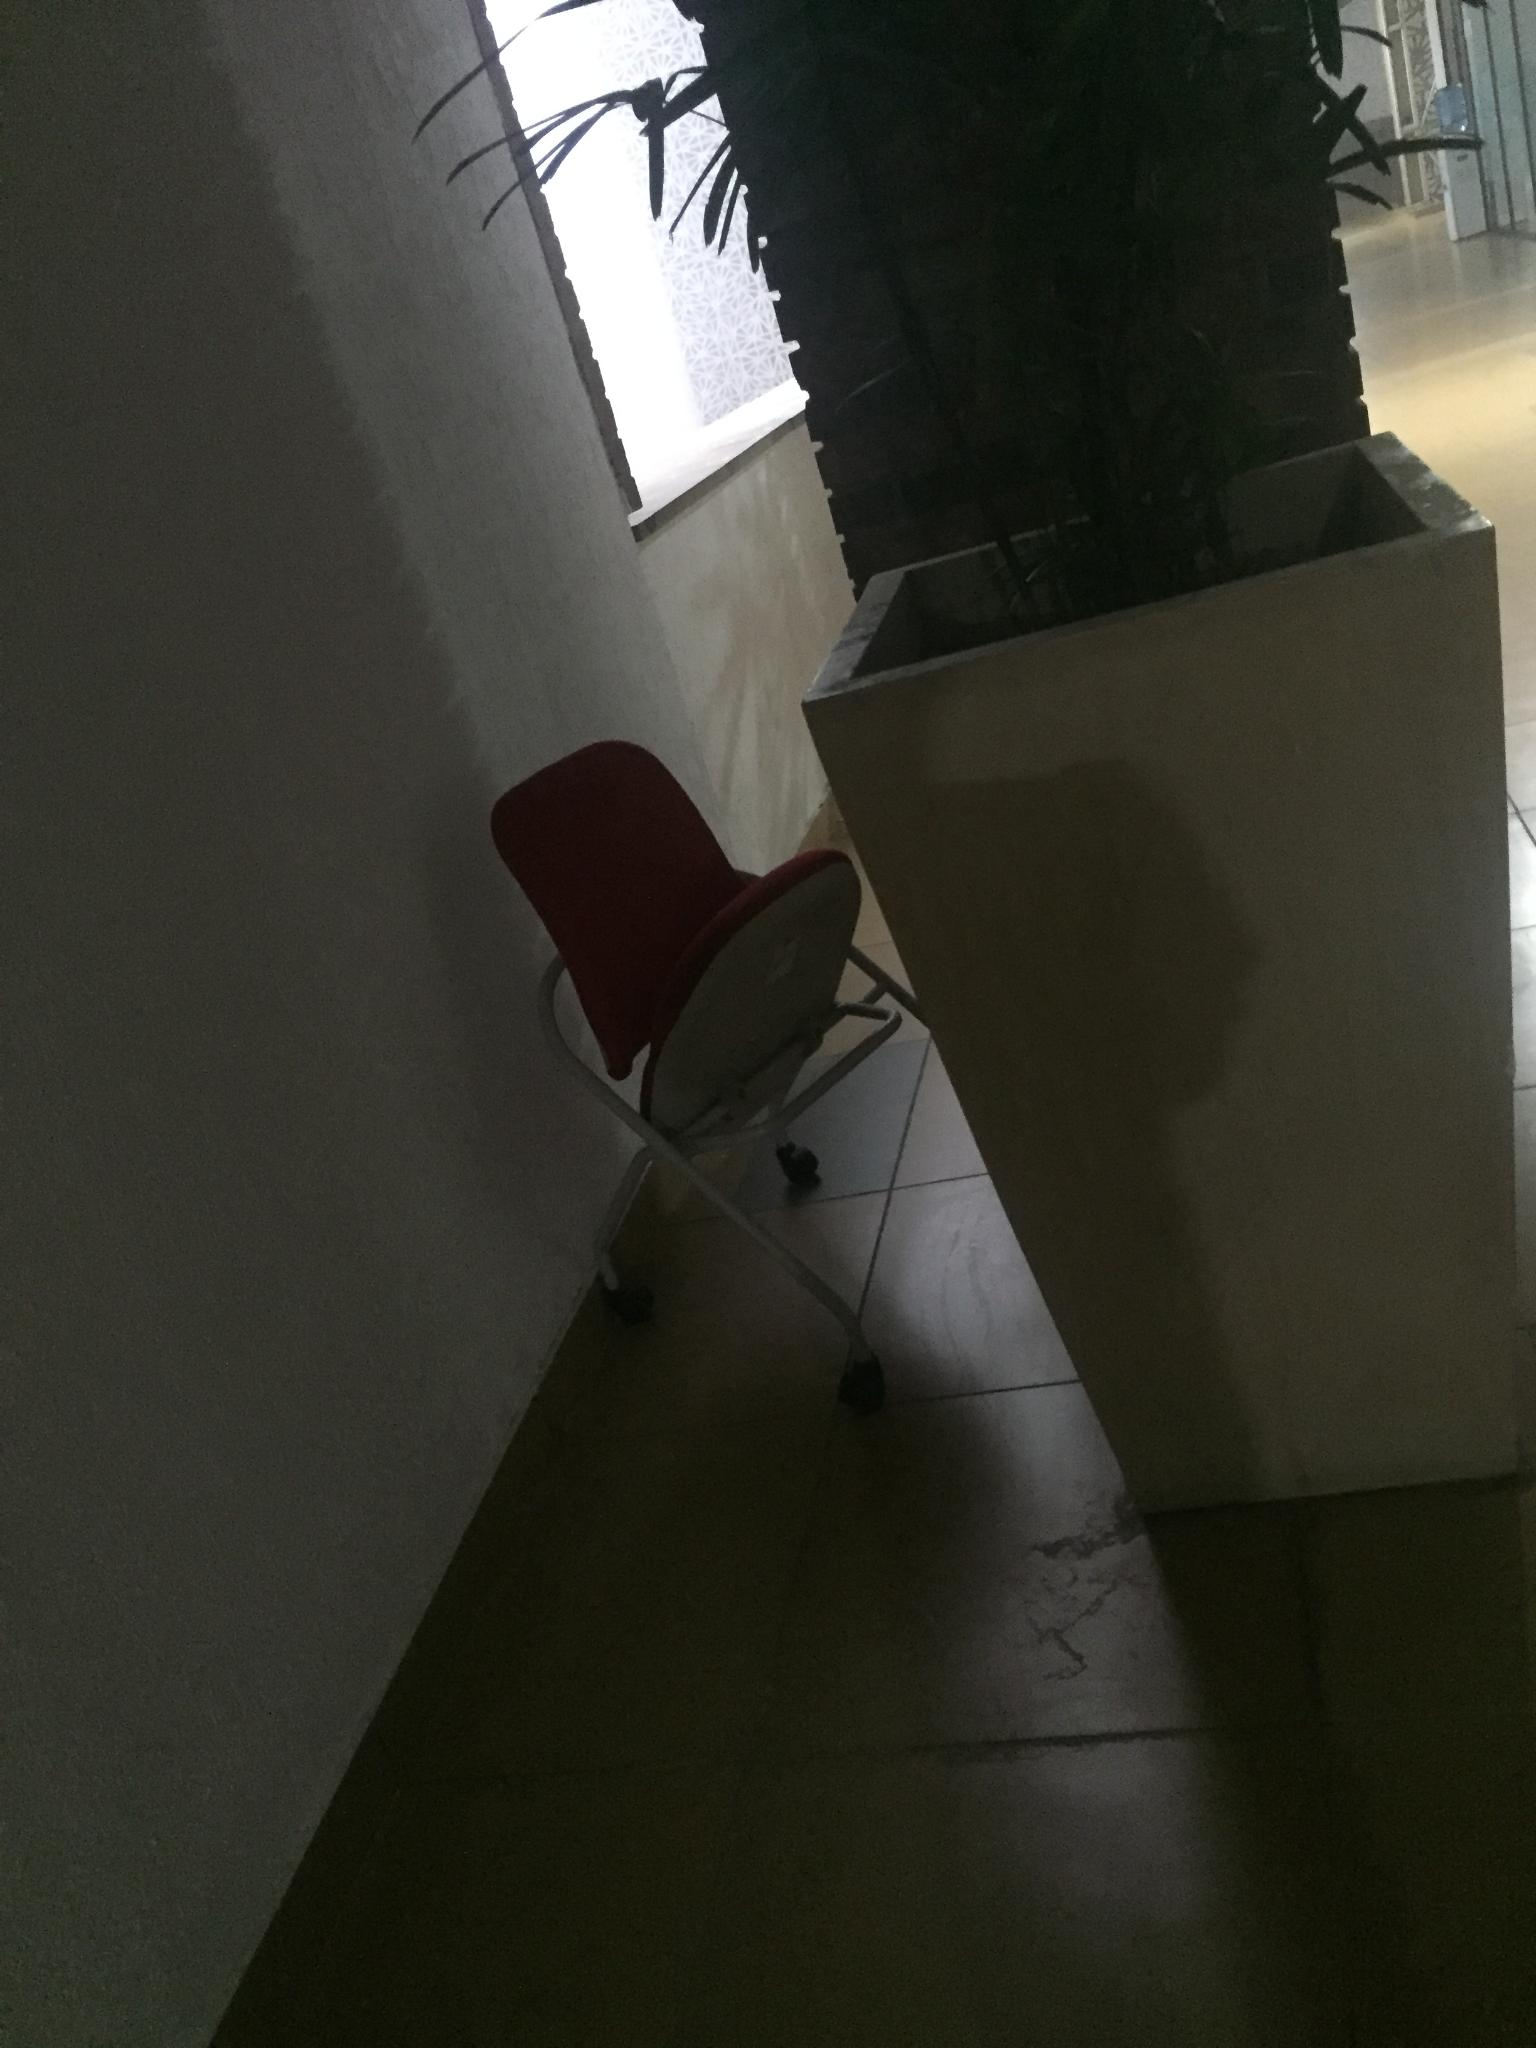chair: (487, 735, 912, 1414)
